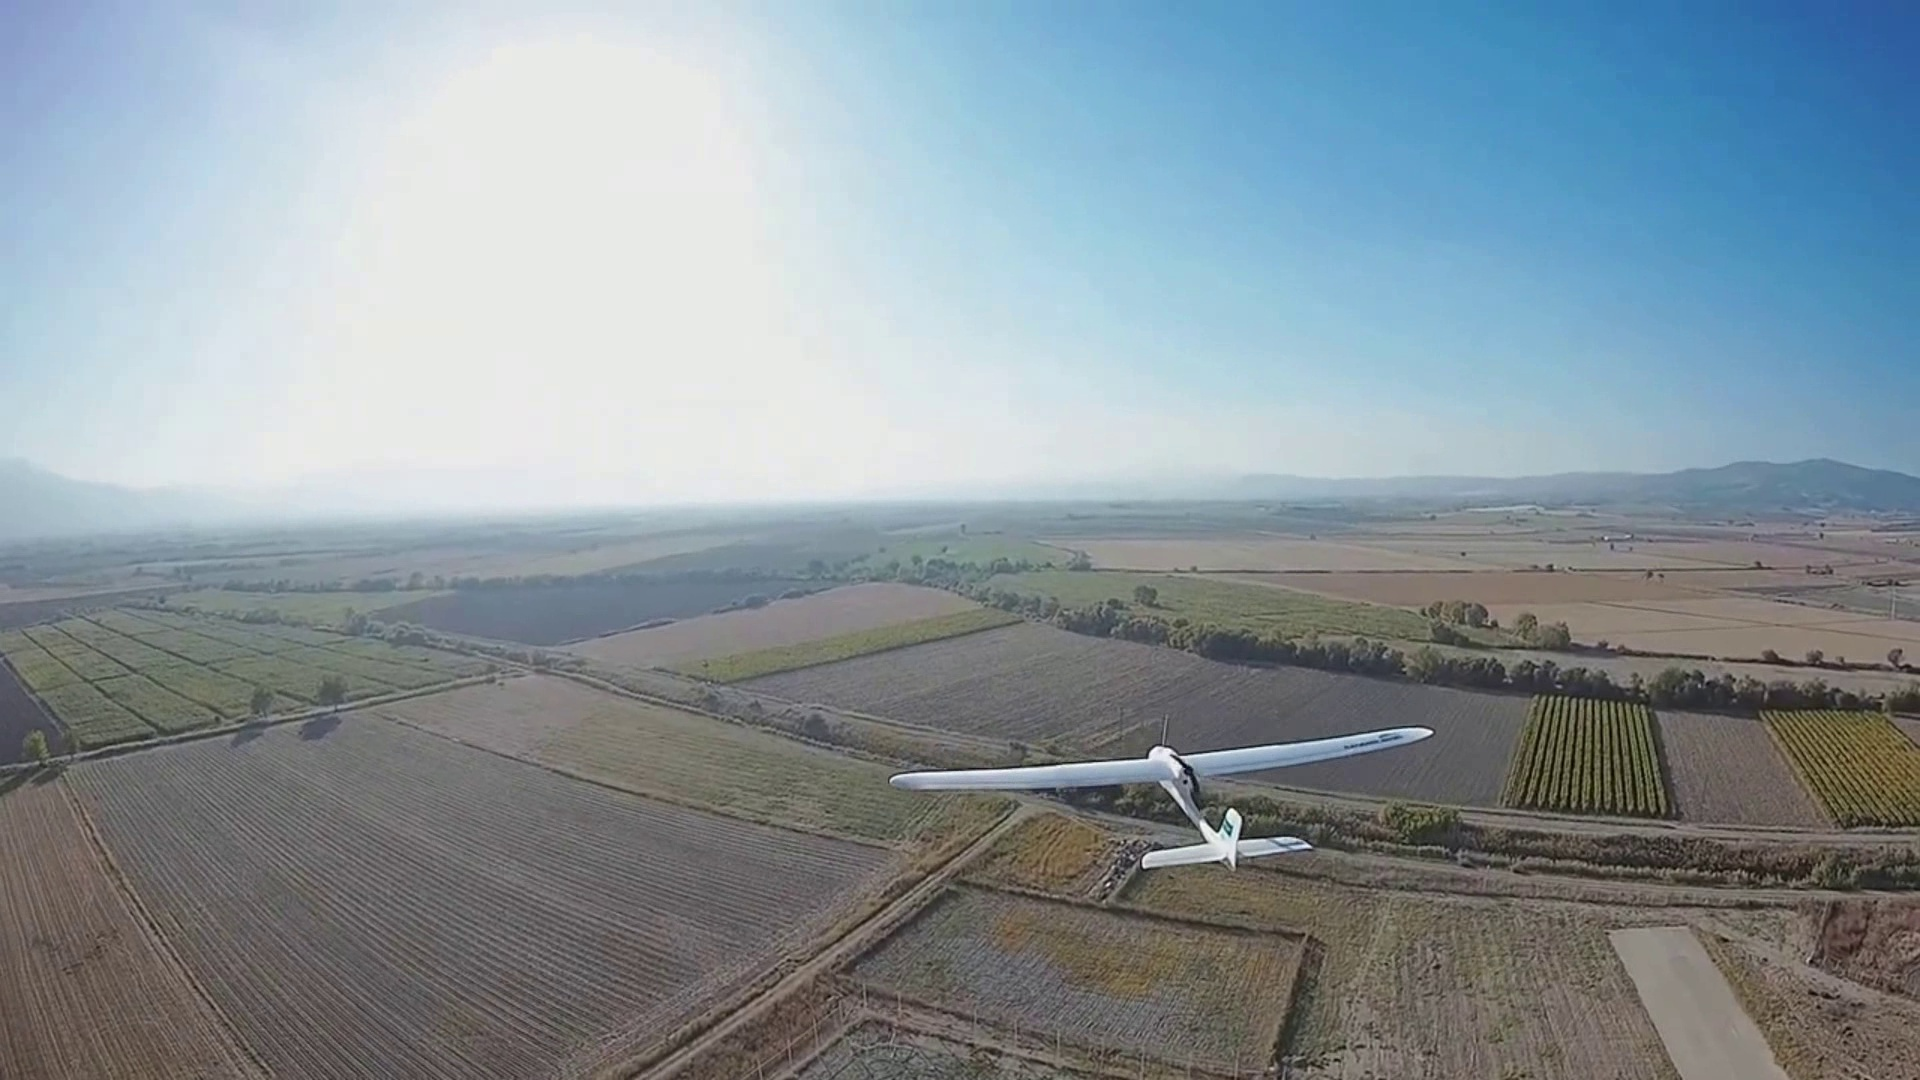airplane: (886, 724, 1435, 868)
